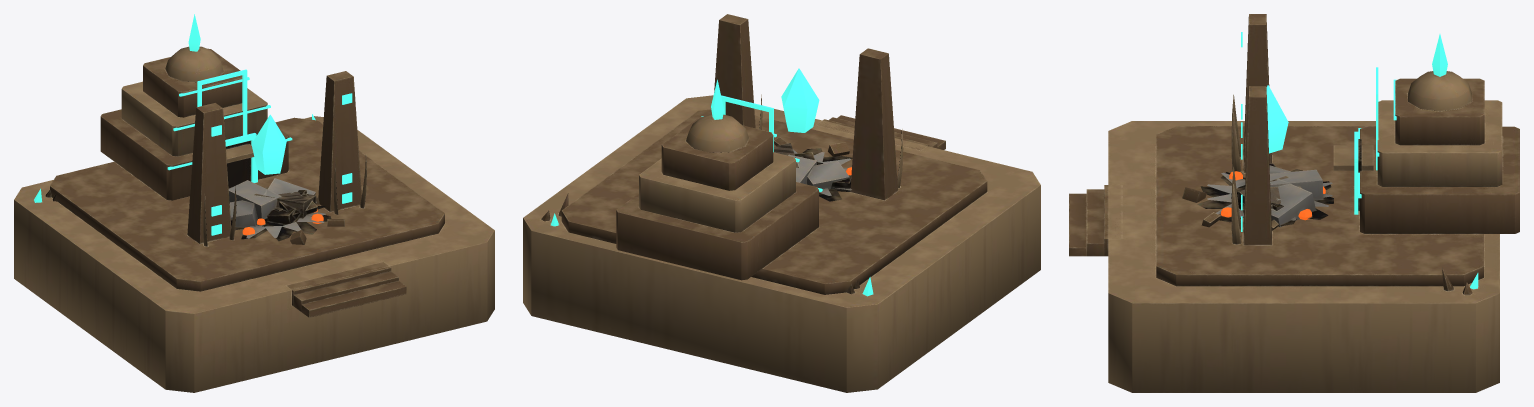
The model's file is sealed-vault-nahara.glb.
The picture shows the model from 3 angles, left to right: view 1: azimuth 30°, elevation 25°; view 2: azimuth 150°, elevation 25°; view 3: azimuth 270°, elevation 25°; orthographic projection. The views are drawn at different scales.
Visible parts, largest first — view 1: site_sealed_vault_nahara_body, site_sealed_vault_nahara_ruin, site_sealed_vault_nahara_core; view 2: site_sealed_vault_nahara_body, site_sealed_vault_nahara_ruin, site_sealed_vault_nahara_core; view 3: site_sealed_vault_nahara_body, site_sealed_vault_nahara_ruin, site_sealed_vault_nahara_core.
Part boxes in pixels (box(x1,y1,x2,y2)): site_sealed_vault_nahara_body: box(14, 14, 494, 392); site_sealed_vault_nahara_ruin: box(228, 178, 344, 244); site_sealed_vault_nahara_core: box(251, 114, 286, 174); site_sealed_vault_nahara_body: box(523, 14, 1040, 392); site_sealed_vault_nahara_ruin: box(774, 137, 852, 201); site_sealed_vault_nahara_core: box(781, 68, 819, 132); site_sealed_vault_nahara_body: box(1069, 14, 1519, 392); site_sealed_vault_nahara_ruin: box(1182, 163, 1333, 230); site_sealed_vault_nahara_core: box(1266, 85, 1288, 153).
Bounding box in the file's own units: 5.4 × 3.7 × 5.64.
Materials: 6 (1 with a texture image).
